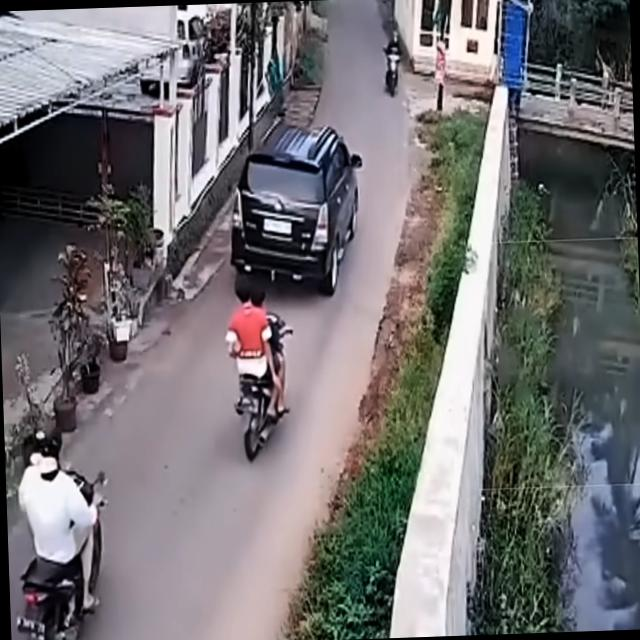WithoutHelmet: (223, 276, 290, 421)
